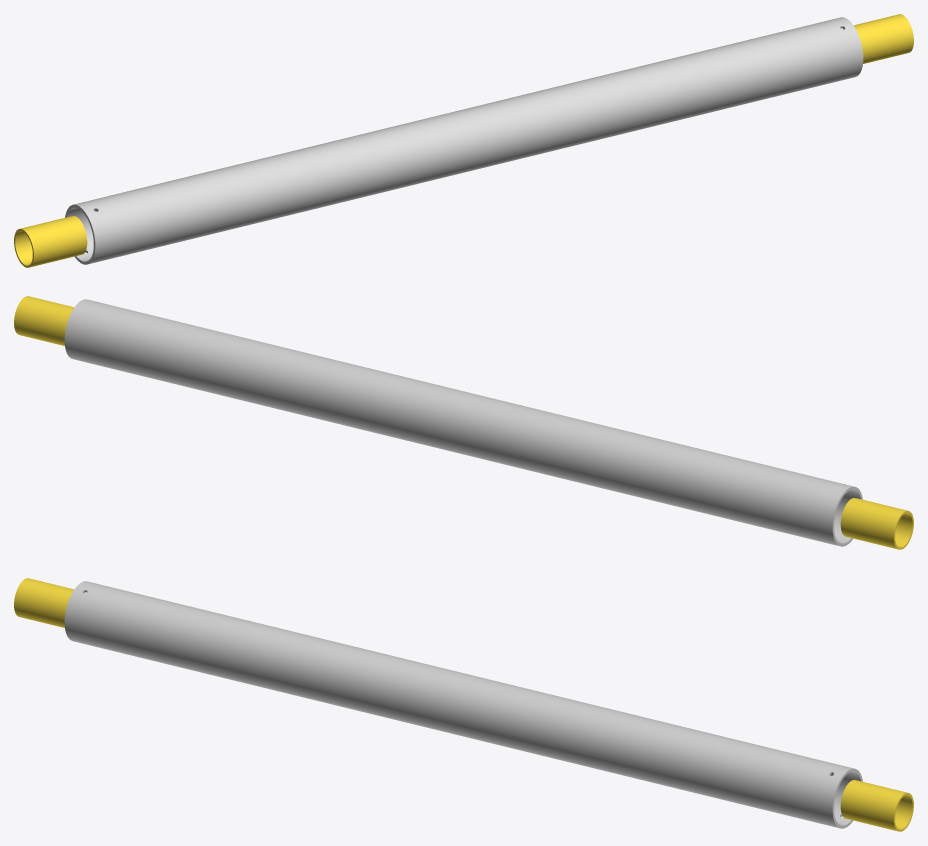
Rendered from hub 1.fbx.
The picture shows the model from 3 angles, top to bottom: view 1: azimuth 30°, elevation 25°; view 2: azimuth 150°, elevation 25°; view 3: azimuth 330°, elevation 25°; orthographic projection.
Visible parts, largest first — view 1: GE-26408: Counter Roller Tube, GE-26410: Long Spline Spacer, GE-26410: Long Spline Spacer.001; view 2: GE-26408: Counter Roller Tube, GE-26410: Long Spline Spacer, GE-26410: Long Spline Spacer.001; view 3: GE-26408: Counter Roller Tube, GE-26410: Long Spline Spacer.001, GE-26410: Long Spline Spacer.
Boxes of the visible parts, bbox=[...] form: GE-26408: Counter Roller Tube: bbox=[65, 17, 863, 264]; GE-26410: Long Spline Spacer: bbox=[14, 216, 87, 267]; GE-26410: Long Spline Spacer.001: bbox=[843, 14, 913, 63]; GE-26408: Counter Roller Tube: bbox=[64, 299, 862, 546]; GE-26410: Long Spline Spacer: bbox=[840, 498, 913, 549]; GE-26410: Long Spline Spacer.001: bbox=[14, 296, 74, 345]; GE-26408: Counter Roller Tube: bbox=[64, 581, 862, 828]; GE-26410: Long Spline Spacer.001: bbox=[840, 780, 913, 831]; GE-26410: Long Spline Spacer: bbox=[14, 578, 84, 627].
Bounding box in the file's own units: 105 × 6.34 × 6.34.
